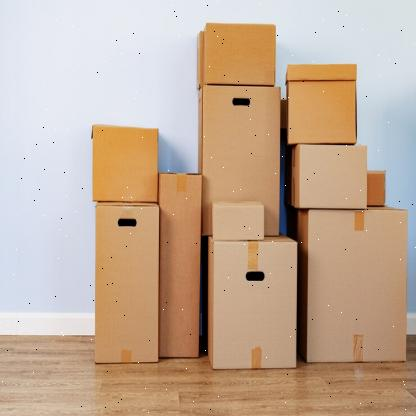box: (307, 209, 407, 363), (202, 86, 280, 236), (213, 241, 298, 371), (94, 204, 160, 364), (158, 171, 200, 359), (287, 65, 358, 145), (92, 126, 159, 201), (204, 22, 275, 86), (298, 144, 367, 209), (212, 205, 264, 241)
